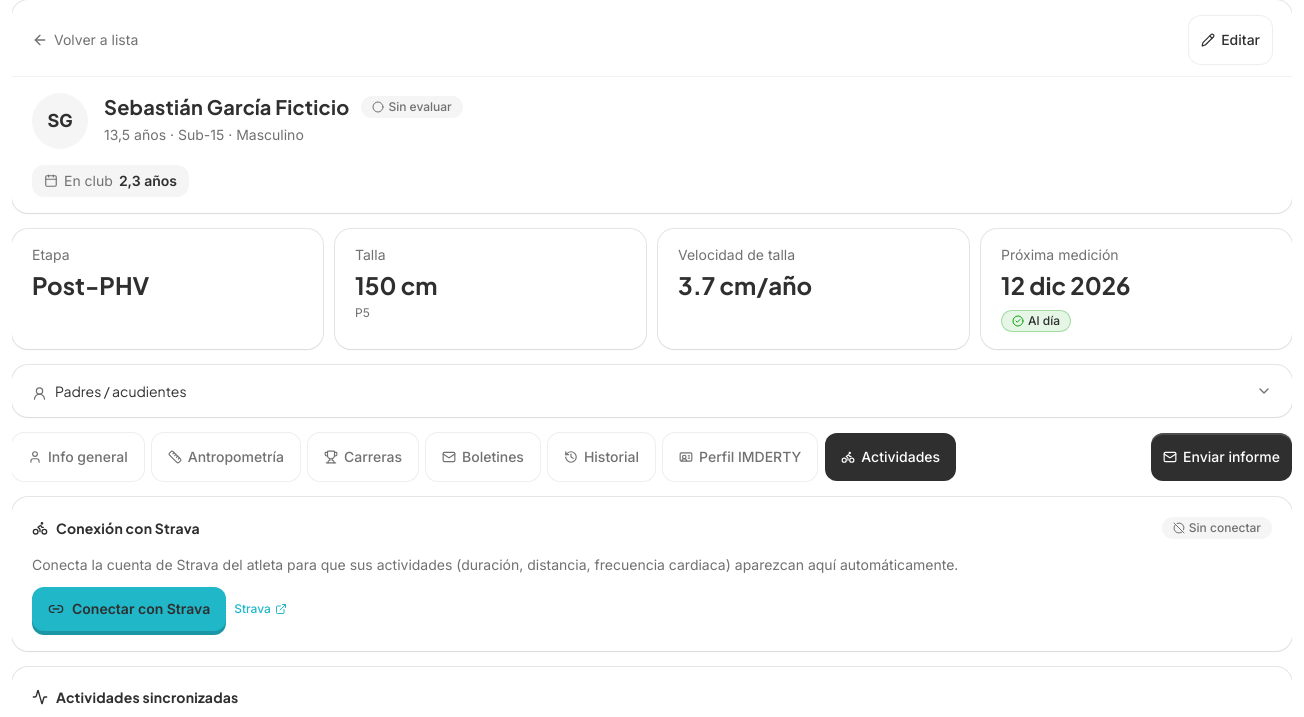
Test: AthleteDetailPage — tarjeta de conexión Strava › flujo de conexión › muestra un error si el backend rechaza iniciar la conexión (503)
What coordinates should you click on to do the following:
click the button "Conectar con Strava"
I would click on:
 (129, 609)
Its box is x1=32 y1=587 x2=226 y2=631.
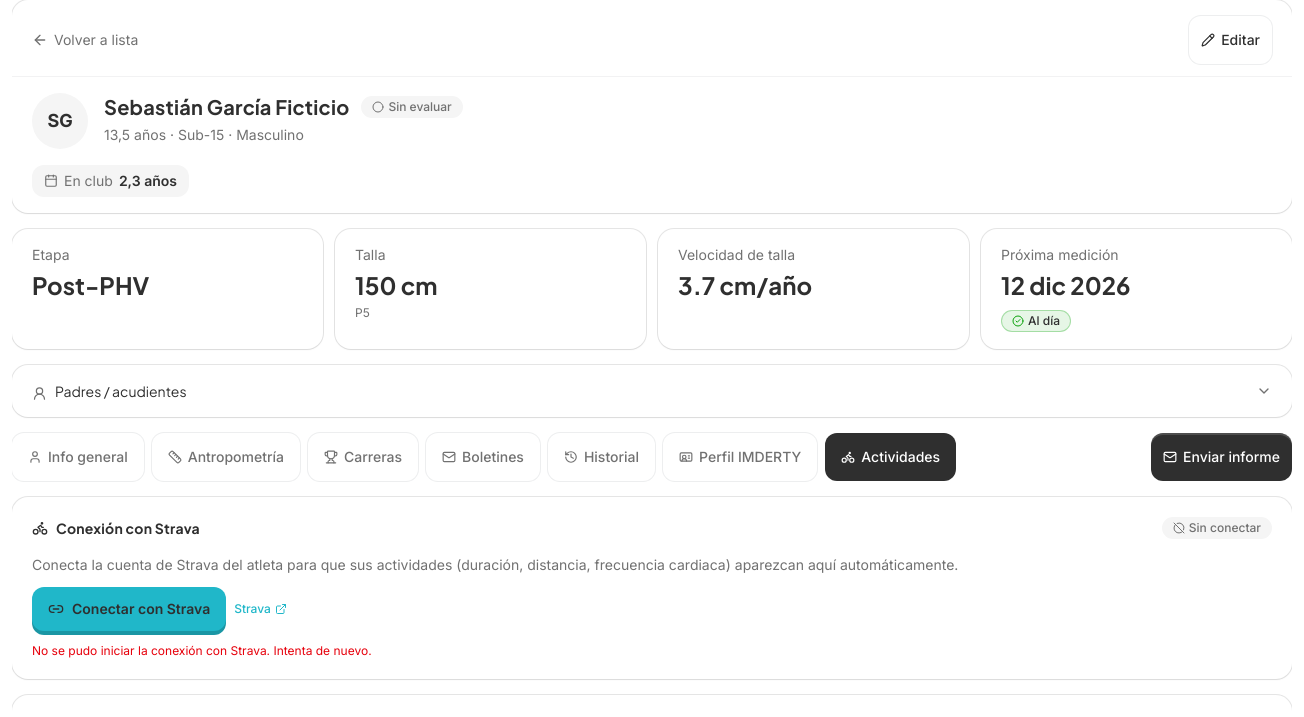
Now the text "No se pudo iniciar la conexión con Strava. Intenta de nuevo." is shown, box x1=32 y1=643 x2=372 y2=658
